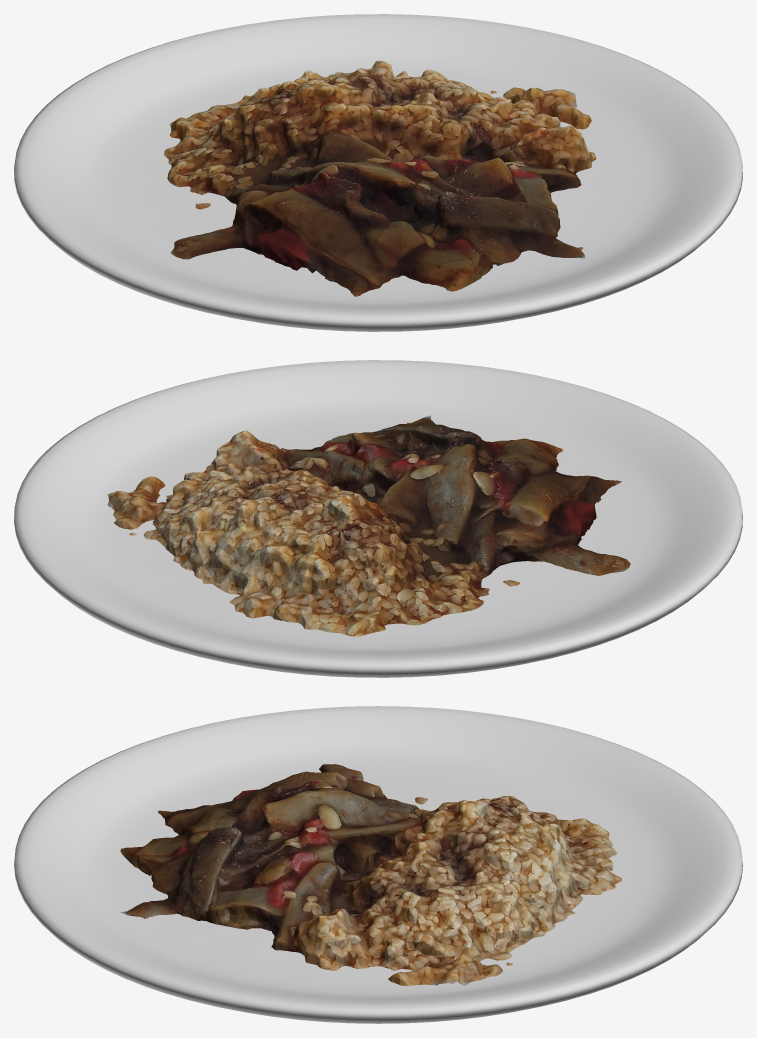
Rendered from fasulye.glb.
The picture shows the model from 3 angles, top to bottom: view 1: azimuth 30°, elevation 25°; view 2: azimuth 150°, elevation 25°; view 3: azimuth 270°, elevation 25°; orthographic projection.
Parts seen in each view (by area): view 1: Plate, fasulye; view 2: Plate, fasulye; view 3: Plate, fasulye.
Part boxes in pixels (x1,y1,x2,y2): Plate: [14, 14, 742, 331]; fasulye: [163, 60, 596, 296]; Plate: [14, 360, 742, 677]; fasulye: [107, 415, 630, 636]; Plate: [14, 706, 742, 1023]; fasulye: [120, 764, 621, 986].
Size of the model in its own units: 0.2624 by 0.0482 by 0.2624.
2 materials, 1 textured.
